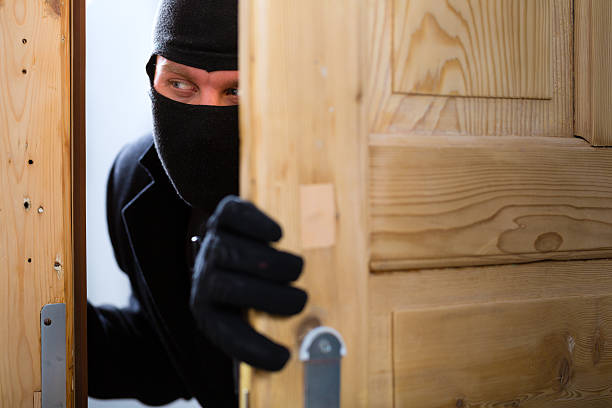65: (299, 326, 346, 407)
handguns: (98, 3, 310, 401)
